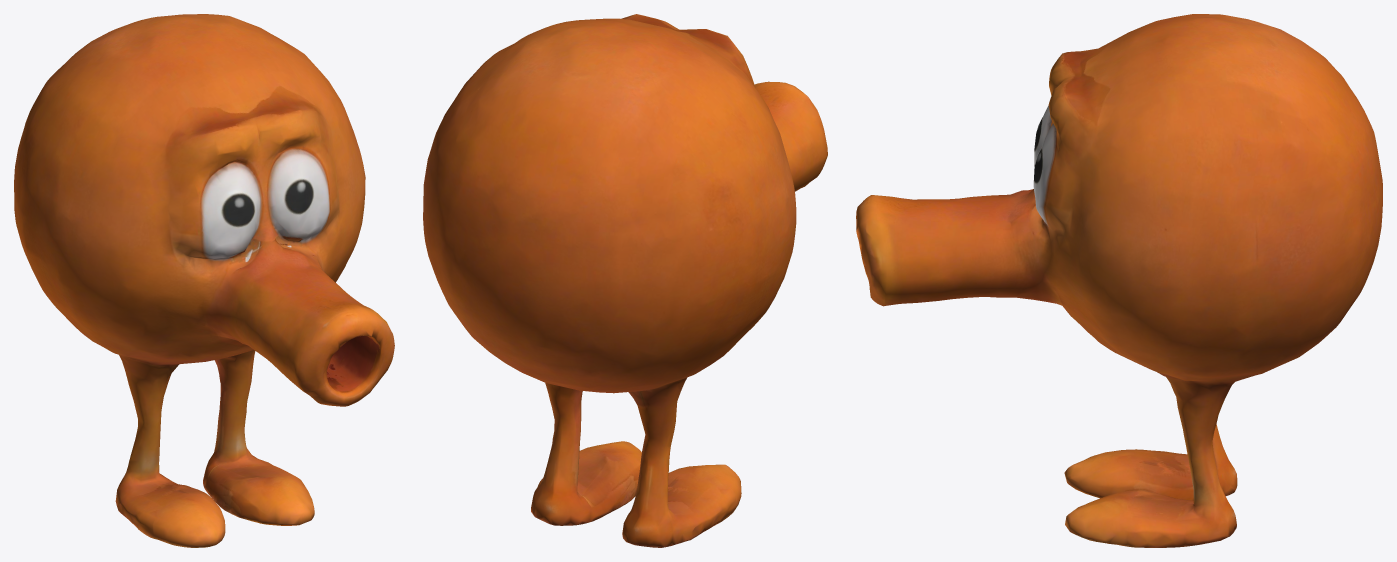
Rendered from qbert.glb.
The picture shows the model from 3 angles, left to right: view 1: azimuth 30°, elevation 25°; view 2: azimuth 150°, elevation 25°; view 3: azimuth 270°, elevation 25°; orthographic projection. The views are drawn at different scales.
Parts seen in each view (by area): view 1: Mesh1.0; view 2: Mesh1.0; view 3: Mesh1.0.
Boxes of the visible parts, left/top/right/bottom form: Mesh1.0: left=14, top=14, right=394, bottom=547; Mesh1.0: left=423, top=14, right=827, bottom=547; Mesh1.0: left=856, top=14, right=1382, bottom=547.
Bounding box in the file's own units: 1.37 × 2 × 2.
Materials: 1 (1 with a texture image).
